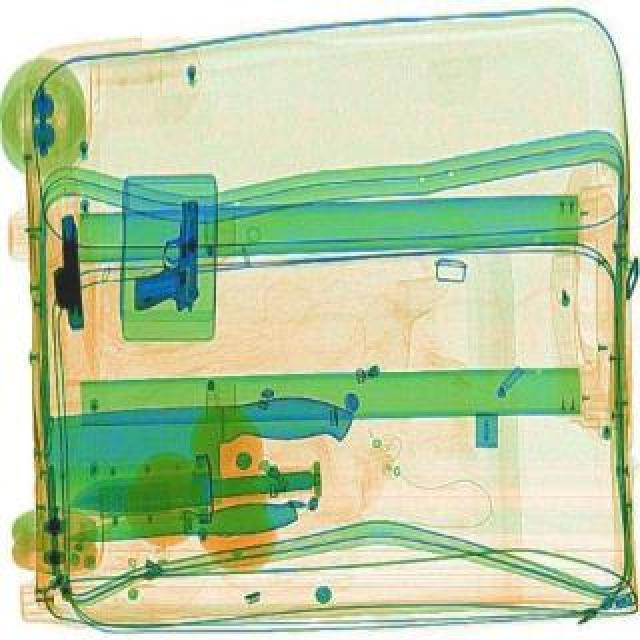gun: (134, 198, 202, 312), (44, 212, 92, 332)
knife: (44, 390, 360, 518), (66, 456, 322, 520), (68, 492, 304, 556)
